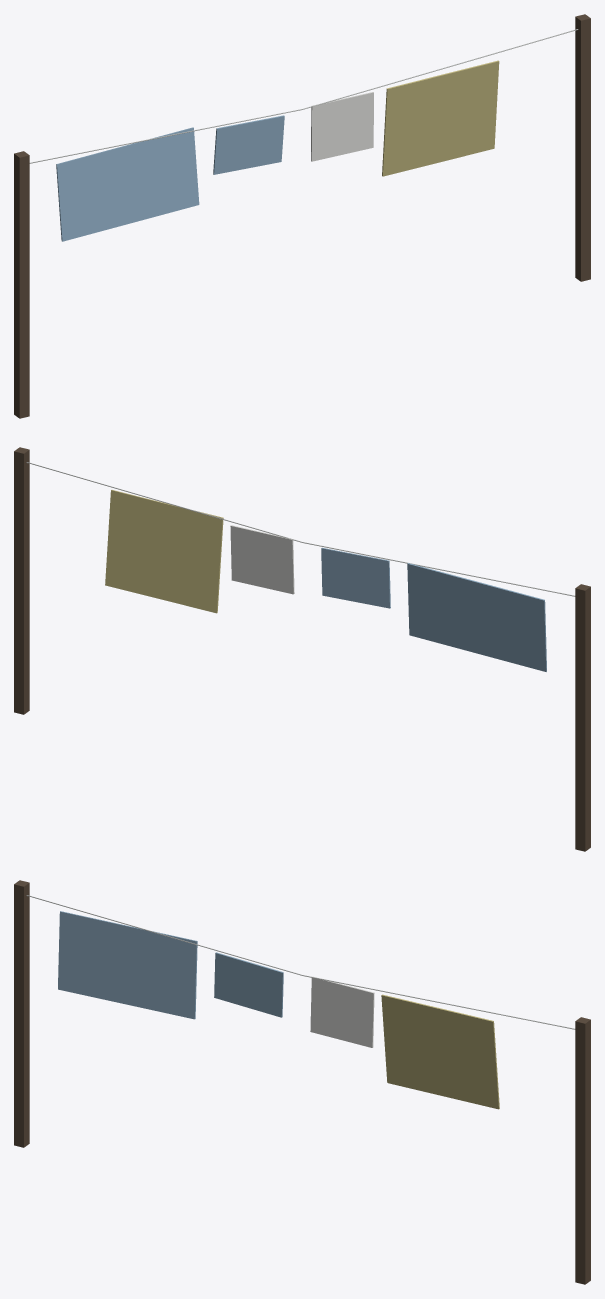
File: street.garden.washing_line_2.glb
3 views of the same model, one above another, from view 1: azimuth 30°, elevation 25°; view 2: azimuth 150°, elevation 25°; view 3: azimuth 330°, elevation 25° (orthographic).
Parts seen in each view (by area): view 1: main__paint_9bc, main__paint_cc8, main__paint_654, main__paint_ddd, main__paint_bbb; view 2: main__paint_9bc, main__paint_cc8, main__paint_654, main__paint_ddd, main__paint_bbb; view 3: main__paint_9bc, main__paint_cc8, main__paint_654, main__paint_ddd, main__paint_bbb.
Boxes of the visible parts, x1=… form: main__paint_9bc: x1=56, y1=115, x2=284, y2=241; main__paint_cc8: x1=382, y1=60, x2=499, y2=176; main__paint_654: x1=14, y1=14, x2=590, y2=418; main__paint_ddd: x1=311, y1=92, x2=373, y2=161; main__paint_bbb: x1=29, y1=29, x2=578, y2=163; main__paint_9bc: x1=321, y1=547, x2=546, y2=671; main__paint_cc8: x1=105, y1=490, x2=223, y2=613; main__paint_654: x1=14, y1=447, x2=590, y2=851; main__paint_ddd: x1=230, y1=525, x2=294, y2=594; main__paint_bbb: x1=26, y1=462, x2=575, y2=596; main__paint_9bc: x1=58, y1=911, x2=283, y2=1019; main__paint_cc8: x1=381, y1=994, x2=499, y2=1109; main__paint_654: x1=14, y1=880, x2=590, y2=1284; main__paint_ddd: x1=310, y1=976, x2=374, y2=1047; main__paint_bbb: x1=26, y1=895, x2=575, y2=1029.
Size of the model in its own units: 4.58 by 2 by 0.0855.
